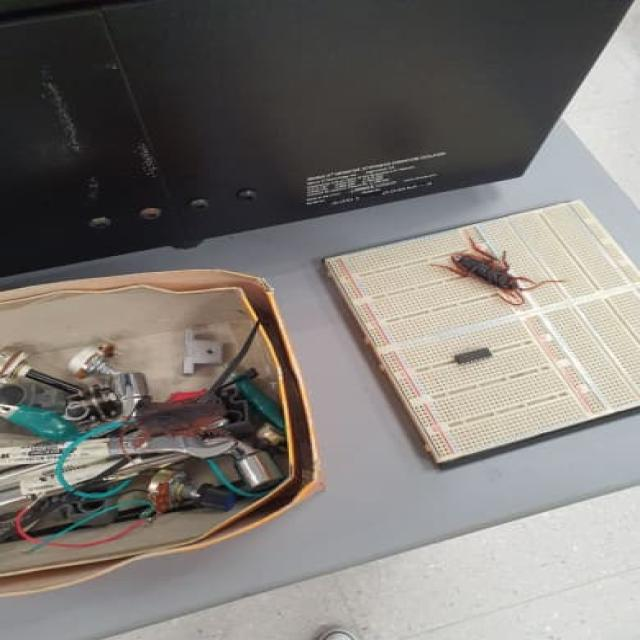Cockroach: (425, 227, 563, 315), (105, 388, 238, 452)
